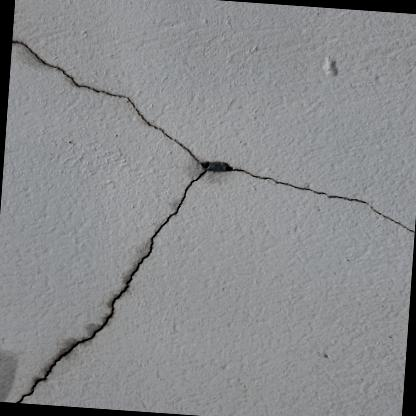crack: (11, 39, 415, 403)
